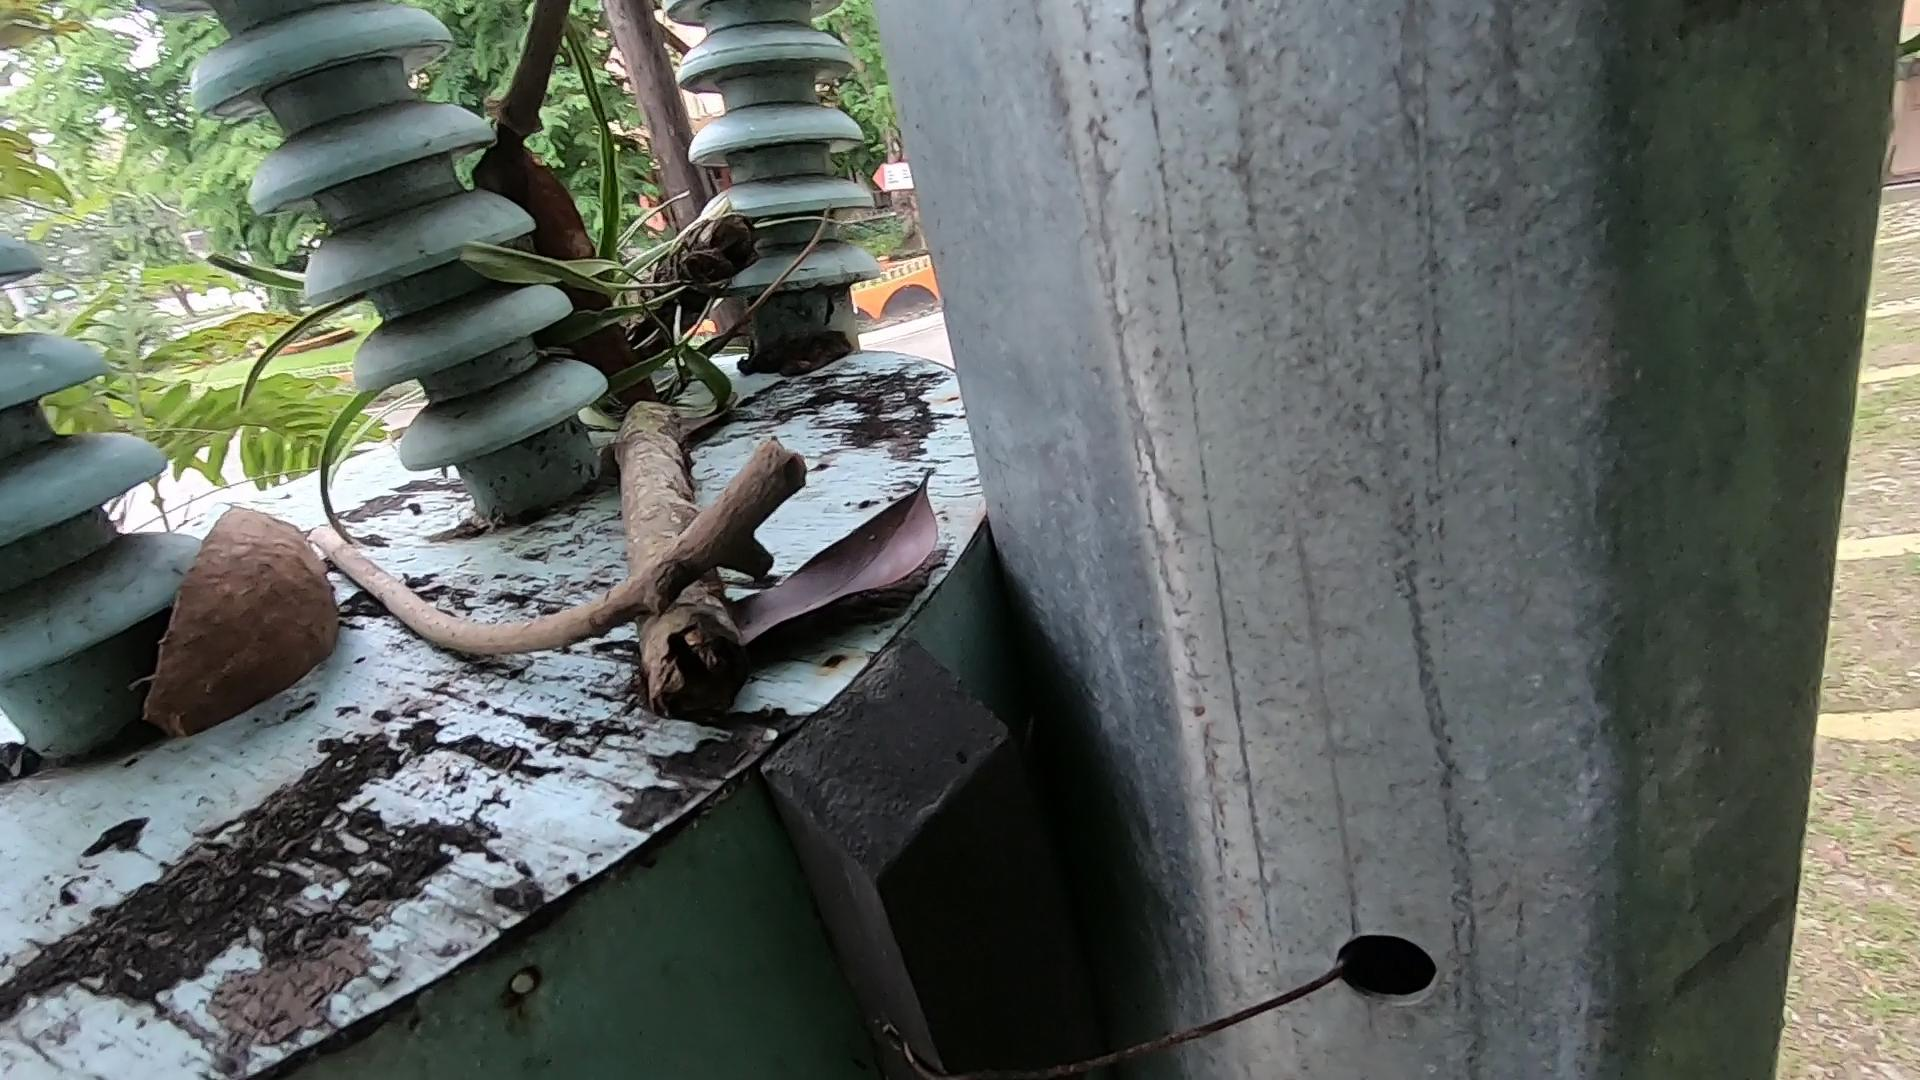branch with leaves: (514, 144, 756, 757)
leaf: (736, 469, 956, 715)
mahogany fruit: (464, 135, 673, 459), (142, 467, 357, 727)
tree branch: (287, 430, 799, 663), (440, 1, 653, 257)
